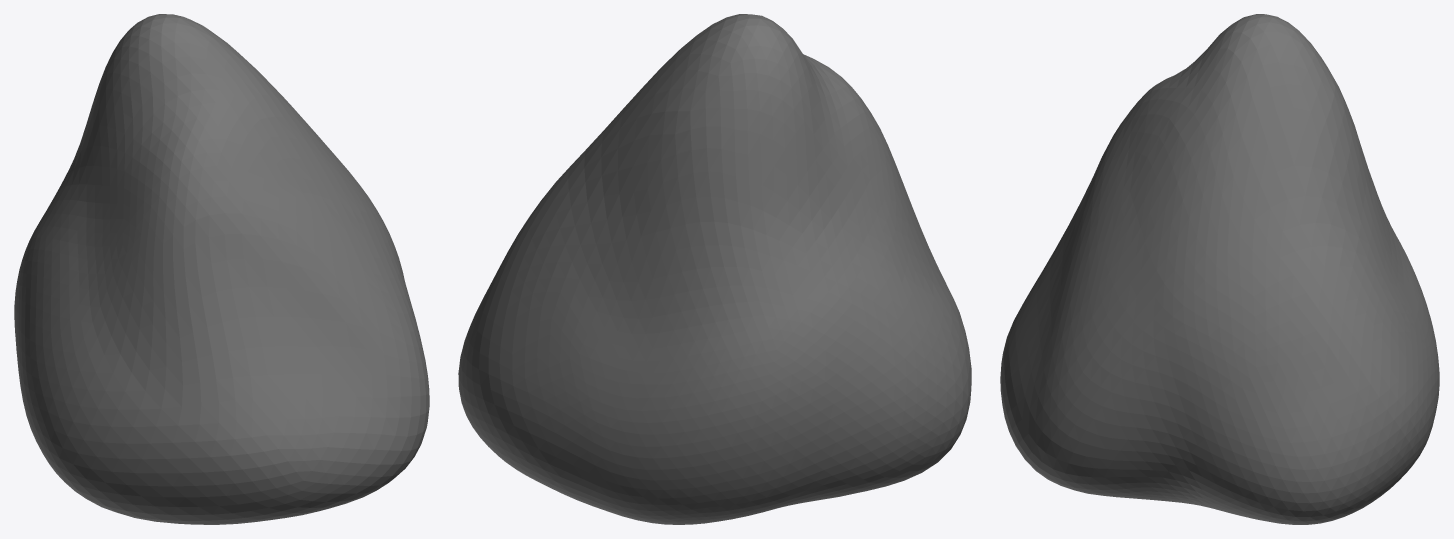
The model's file is rock_02.glb.
The picture shows the model from 3 angles, left to right: view 1: azimuth 30°, elevation 25°; view 2: azimuth 150°, elevation 25°; view 3: azimuth 270°, elevation 25°; orthographic projection. The views are drawn at different scales.
Visible parts, largest first — view 1: Icosphere; view 2: Icosphere; view 3: Icosphere.
Boxes of the visible parts, x1,y1,x2,y2 form: Icosphere: (14,14,429,524); Icosphere: (458,14,971,524); Icosphere: (1000,14,1439,524).
Bounding box in the file's own units: 2.31 × 2.49 × 2.27.
Materials: 1 (1 with a texture image).
